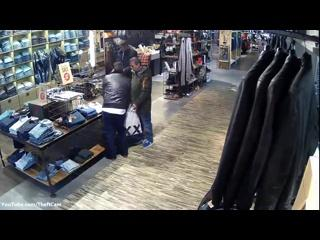Normal: (116, 39, 138, 79)
shoplifting: (100, 62, 132, 160), (128, 57, 154, 149)
